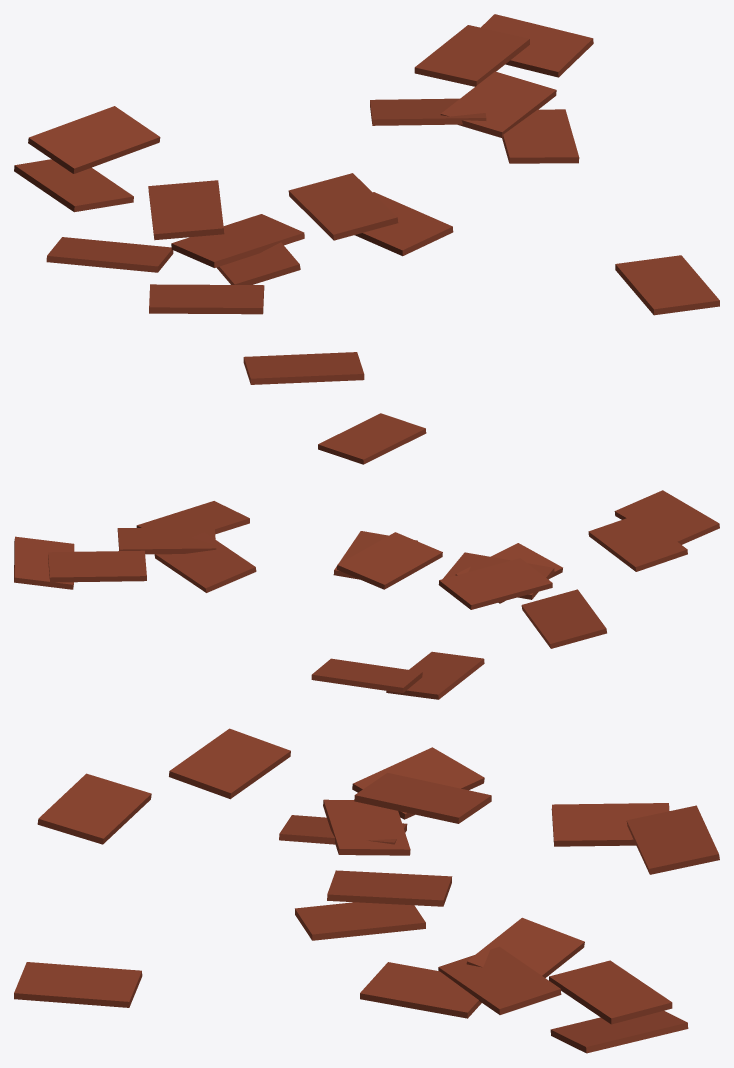
File: demolition.piece.roof_tiles.glb
3 views of the same model, one above another, from view 1: azimuth 30°, elevation 25°; view 2: azimuth 150°, elevation 25°; view 3: azimuth 270°, elevation 25° (orthographic). The views are drawn at different scales.
Visible parts, largest first — view 1: main__clay_tile; view 2: main__clay_tile; view 3: main__clay_tile.
Boxes of the visible parts, <box> form: main__clay_tile: <box>14,14,719,384</box>; main__clay_tile: <box>14,413,719,699</box>; main__clay_tile: <box>14,728,719,1053</box>.
Bounding box in the file's own units: 1.64 × 0.118 × 1.57.
